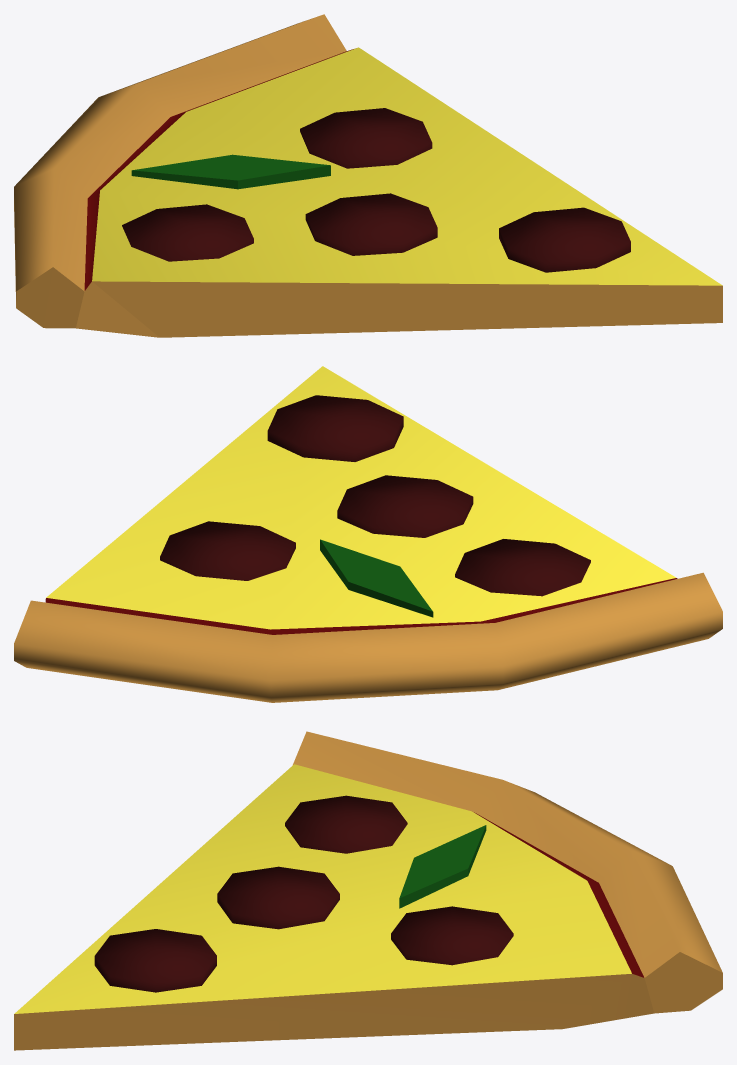
The model's file is Slice006.FBX.
3 views of the same model, one above another, from view 1: azimuth 30°, elevation 25°; view 2: azimuth 150°, elevation 25°; view 3: azimuth 270°, elevation 25° (orthographic). The views are drawn at different scales.
Visible parts, largest first — view 1: Slice006; view 2: Slice006; view 3: Slice006.
Boxes of the visible parts, box(x1,y1,x2,y2) form: Slice006: box(14, 14, 722, 337); Slice006: box(14, 366, 722, 702); Slice006: box(14, 731, 722, 1050).
Bounding box in the file's own units: 6.68 × 0.8516 × 7.66.
